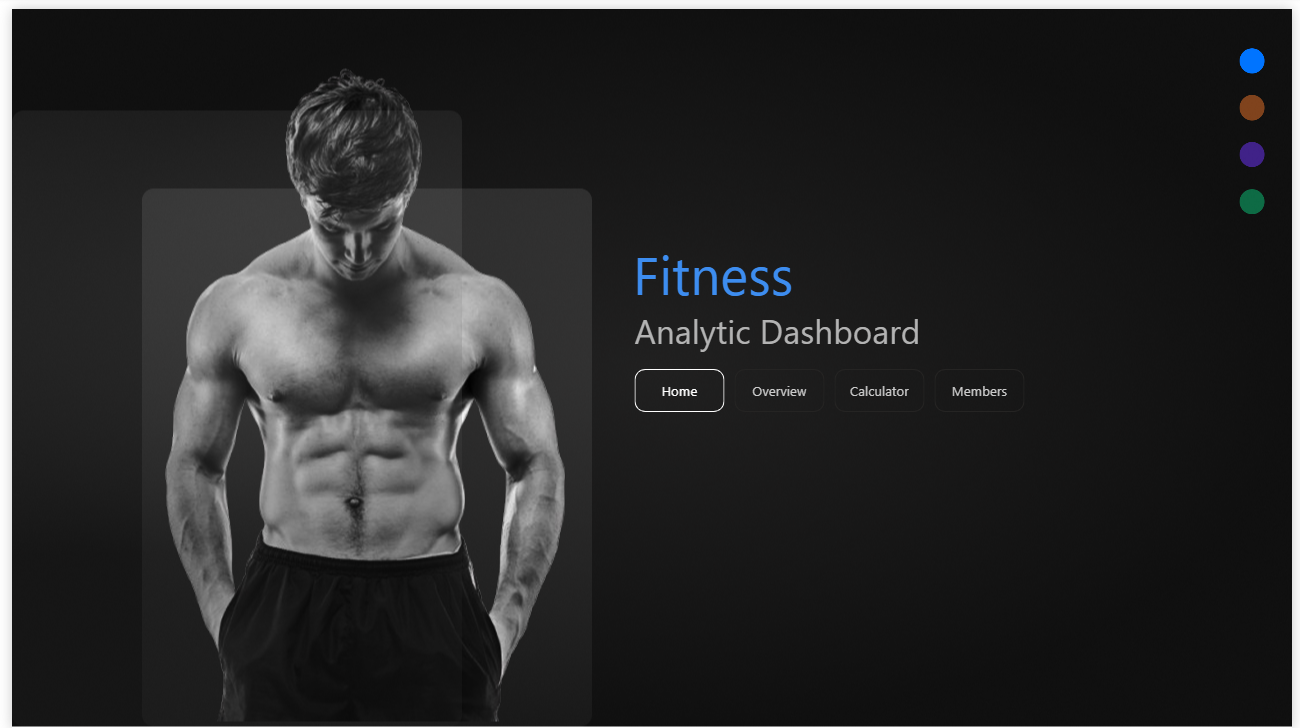

Layout of this report page (visuals, bound fields, positions):
{"tool":"powerbi","page":{"name":"Home","canvas":[1280,720],"ordinal":0},"visuals":[{"type":"shape","box":[604.4,216.8,192.6,95.7],"z":0},{"type":"shape","box":[604.4,290.7,321,59.3],"z":1000},{"type":"pageNavigator","box":[622.6,359.7,390,43.6],"z":2000},{"type":"advancedSlicerVisual","fields":{"Values":["ColorCodes.Icon"]},"box":[1215.7,27.1,48.6,190],"z":3000}]}

Visuals, with their boxes in screenshot pixels (x1, y1, x2, y2), scaled from the page's 1280x720 canvas onto the 1300x728 screenshot:
shape: (x1=614, y1=219, x2=809, y2=316)
shape: (x1=614, y1=294, x2=940, y2=354)
pageNavigator: (x1=632, y1=364, x2=1028, y2=408)
advancedSlicerVisual - ColorCodes.Icon: (x1=1235, y1=27, x2=1284, y2=220)
